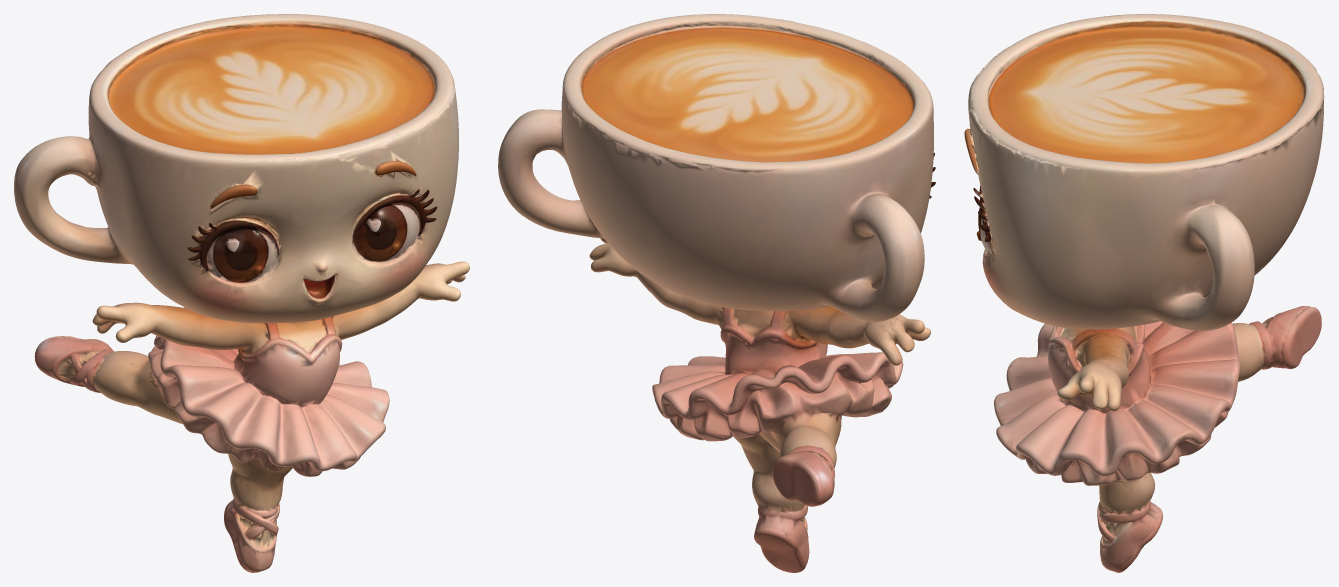
Rendered from ballerina-capuccina.glb.
The picture shows the model from 3 angles, left to right: view 1: azimuth 30°, elevation 25°; view 2: azimuth 150°, elevation 25°; view 3: azimuth 270°, elevation 25°; orthographic projection. The views are drawn at different scales.
Parts seen in each view (by area): view 1: tripo_node_8cb1d160-211a-466b-a762-83f0de1e3e6b; view 2: tripo_node_8cb1d160-211a-466b-a762-83f0de1e3e6b; view 3: tripo_node_8cb1d160-211a-466b-a762-83f0de1e3e6b.
Part boxes in pixels (x1=…): tripo_node_8cb1d160-211a-466b-a762-83f0de1e3e6b: x1=14, y1=14, x2=469, y2=572; tripo_node_8cb1d160-211a-466b-a762-83f0de1e3e6b: x1=498, y1=14, x2=935, y2=572; tripo_node_8cb1d160-211a-466b-a762-83f0de1e3e6b: x1=964, y1=14, x2=1324, y2=572.
Bounding box in the file's own units: 0.8858 × 0.9798 × 0.6421.
Materials: 1 (1 with a texture image).
